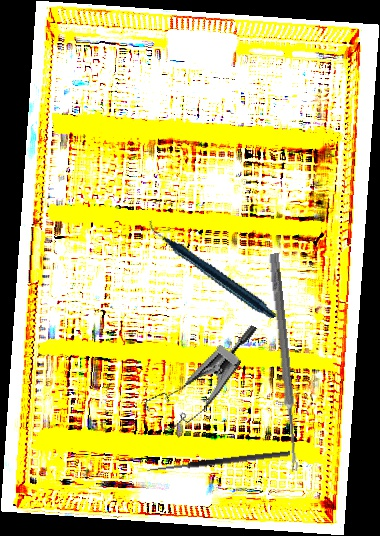Handpiece: (147, 192, 278, 346)
Hook Surgical: (146, 449, 292, 481)
Speculum: (137, 298, 258, 449)
Surgical Spoon: (267, 253, 302, 472)
